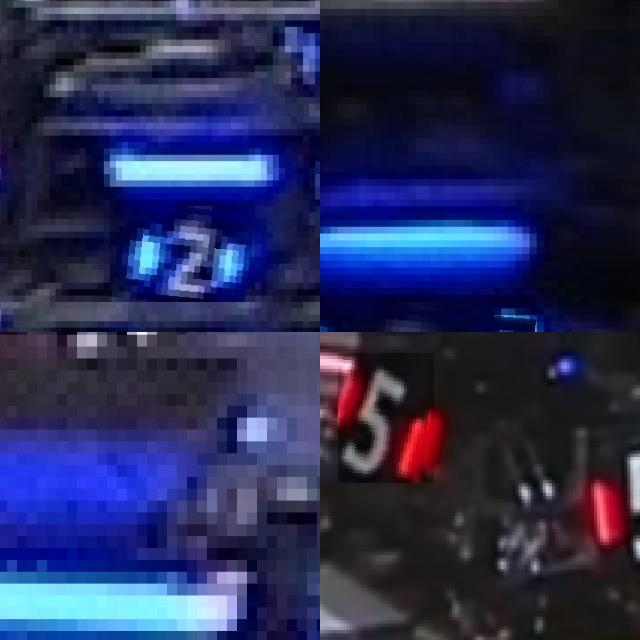B1: (320, 295, 536, 332)
B2: (110, 200, 255, 302)
R5: (338, 353, 434, 483), (585, 437, 640, 564)
